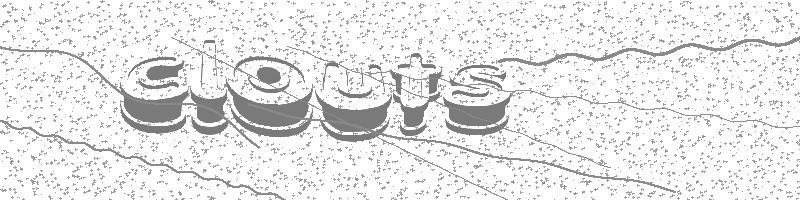c: (118, 56, 190, 134)
l: (191, 38, 229, 135)
o: (226, 55, 315, 137)
s: (443, 63, 512, 137)
t: (390, 52, 441, 138)
u: (316, 59, 393, 142)
